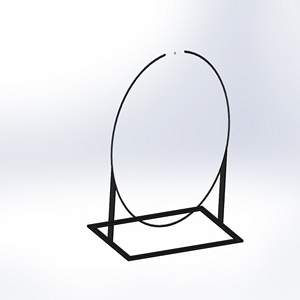circle: (84, 47, 245, 262)
